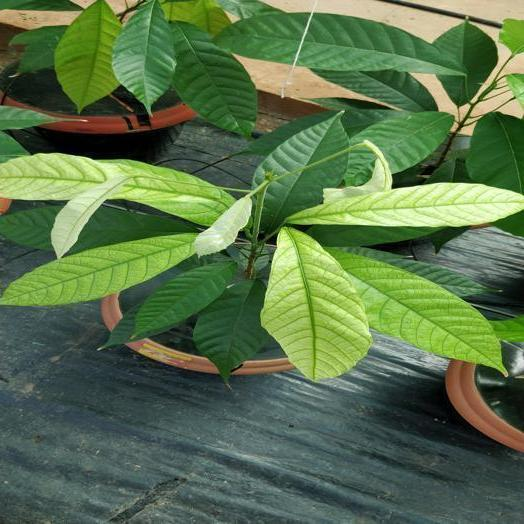Healthy Leaf: (213, 12, 467, 77), (251, 109, 349, 226), (172, 22, 256, 135), (341, 247, 496, 296), (193, 280, 267, 382), (134, 261, 235, 334), (348, 111, 453, 181), (55, 0, 120, 111), (113, 0, 175, 114), (309, 68, 439, 112), (433, 21, 499, 105), (465, 111, 523, 195), (7, 25, 68, 78), (0, 106, 65, 130), (102, 305, 138, 348), (498, 17, 523, 55), (0, 132, 28, 162), (505, 73, 523, 111)
Iron: (328, 249, 503, 369), (261, 227, 371, 380), (0, 153, 233, 225), (0, 234, 195, 305), (285, 183, 523, 226), (51, 176, 125, 258), (324, 140, 391, 202)
